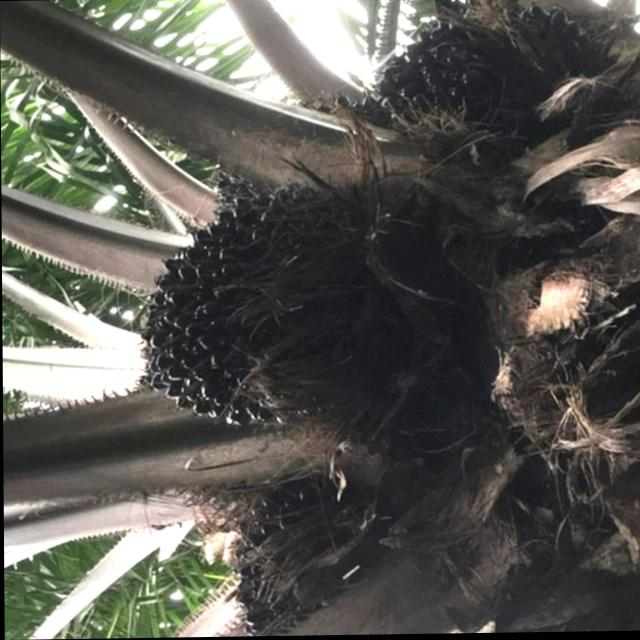ripe: (118, 162, 384, 409)
